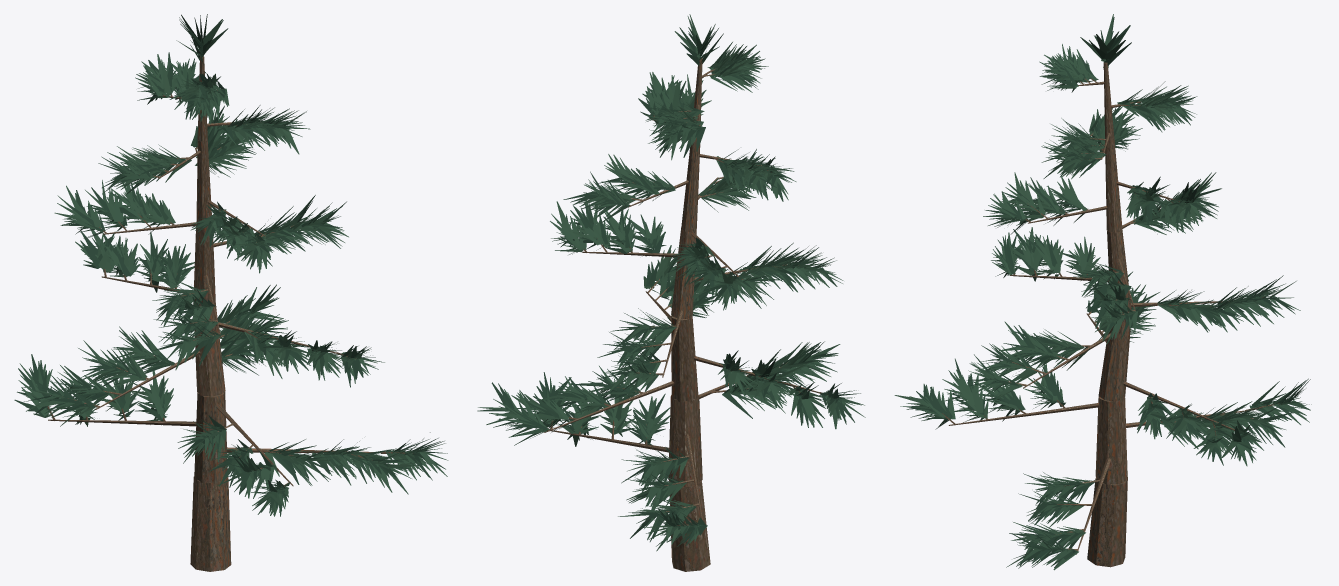
Rendered from detail_spruce_lod.glb.
3 renders of one model, left to right at view 1: azimuth 30°, elevation 25°; view 2: azimuth 150°, elevation 25°; view 3: azimuth 270°, elevation 25°, orthographic. The views are drawn at different scales.
Parts seen in each view (by area): view 1: Cone; view 2: Cone; view 3: Cone.
Boxes of the visible parts, x1,y1,x2,y2 form: Cone: (14, 14, 448, 571); Cone: (477, 14, 865, 571); Cone: (894, 14, 1311, 570).
Bounding box in the file's own units: 6.22 × 8.67 × 6.35.
Materials: 3 (1 with a texture image).
